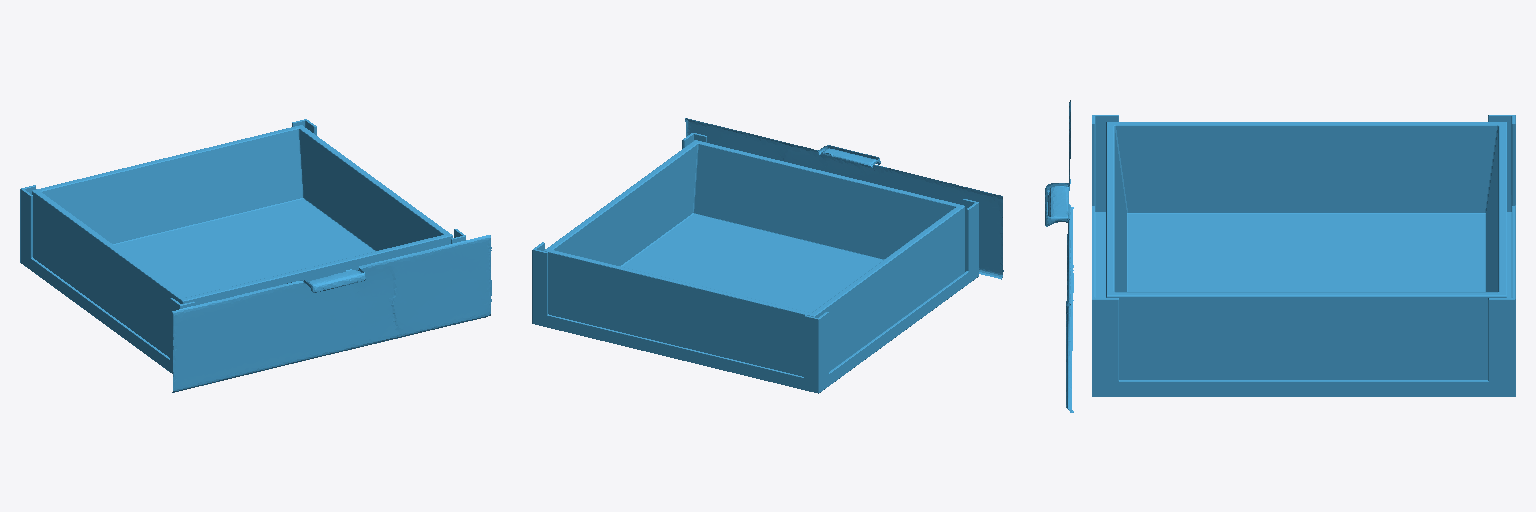
URDF robot description (side-table-01):
<robot name="side-table-01">
  <link name="body">
    <inertial>
      <origin xyz="0.000188 0.042472 0.200554" />
      <mass value="80.8832" />
      <inertia ixx="1.707204" iyy="2.573018" izz="3.586596" ixy="0" ixz="0" iyz="0" />
    </inertial>
    <visual>
      <geometry>
        <mesh filename="meshes/body.stl" />
      </geometry>
    </visual>
    <collision><geometry><mesh filename="collision/body_hull01.stl" /></geometry></collision><collision><geometry><mesh filename="collision/body_hull03.stl" /></geometry></collision><collision><geometry><mesh filename="collision/body_hull04.stl" /></geometry></collision><collision><geometry><mesh filename="collision/body_hull06.stl" /></geometry></collision></link>
  <link name="drawer">
    <inertial>
      <origin xyz="0.000017 -0.409943 0.003628" />
      <mass value="1.4074" />
      <inertia ixx="0.131885" iyy="0.025118" izz="0.108879" ixy="0" ixz="0" iyz="0" />
    </inertial>
    <visual>
      <geometry>
        <mesh filename="meshes/drawer.stl" />
      </geometry>
    </visual>
    <collision><geometry><mesh filename="collision/drawer_hull00.stl" /></geometry></collision></link>
  <joint name="drawer_joint" type="prismatic">
    <parent link="body" />
    <child link="drawer" />
    <origin xyz="0.002404 -0.051230 0.173107" rpy="0 0 0" />
    <axis xyz="0.000000 -1.000000 0.000000" />
    <limit lower="0.000000" upper="0.332522" effort="50.0" velocity="1.0" />
  </joint>
</robot>

--- Render facts (derived) ---
Views: 3 orthographic renders of the robot side by side, from view 1: azimuth 30°, elevation 25°; view 2: azimuth 150°, elevation 25°; view 3: azimuth 270°, elevation 25°.
Robot: side-table-01 — 2 links, 1 joints (1 prismatic); root link body; default pose: all joints at 0.
Links seen in each view (by area): view 1: drawer; view 2: drawer; view 3: drawer.
Boxes of the visible links, x1,y1,x2,y2 form: drawer: (20,119,491,392); drawer: (532,118,1003,393); drawer: (1045,100,1515,412).
Bounding box of the posed robot: 0.4277 × 0.4145 × 0.1062 m (x, y, z).
1 mesh visuals loaded from 2 distinct referenced files (1 binary STL); not drawn: 1 (reference not matched to a file when rendering).
